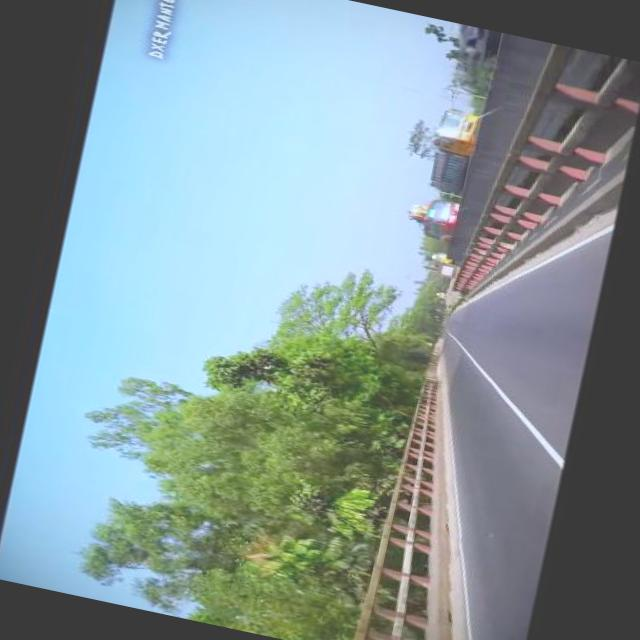bus: (414, 192, 458, 245)
truck: (419, 105, 480, 196)
